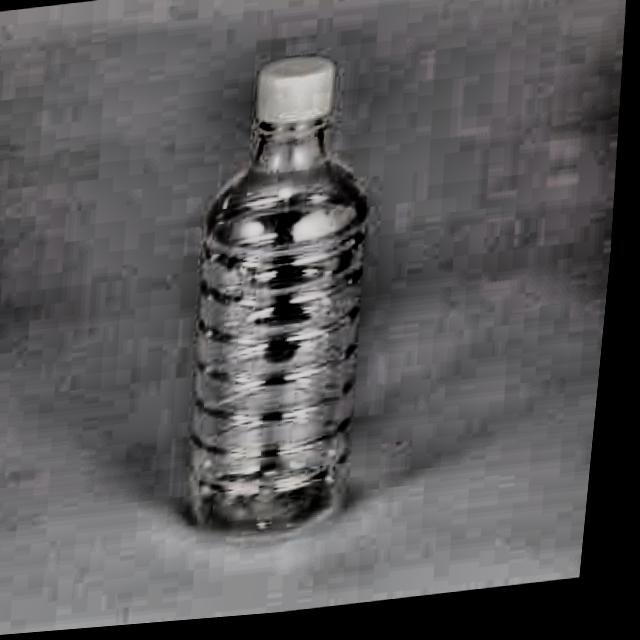Bottles: (150, 39, 416, 567)
